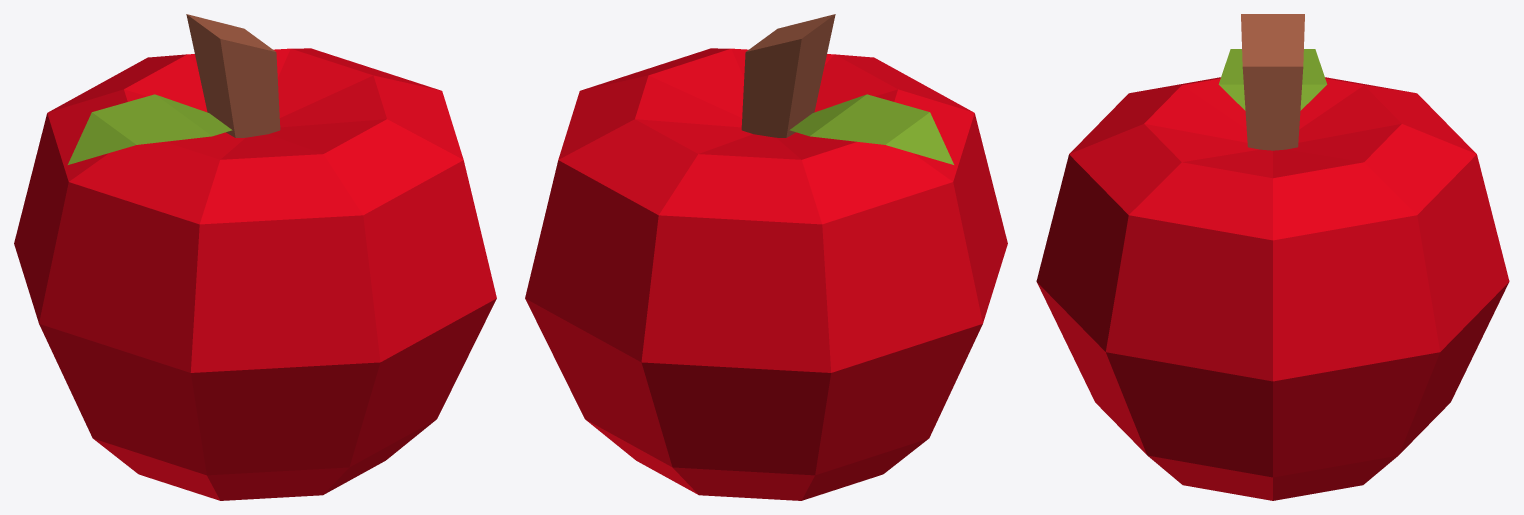
Rendered from Apple.fbx.
The picture shows the model from 3 angles, left to right: view 1: azimuth 30°, elevation 25°; view 2: azimuth 150°, elevation 25°; view 3: azimuth 270°, elevation 25°; orthographic projection. The views are drawn at different scales.
Parts seen in each view (by area): view 1: Apple; view 2: Apple; view 3: Apple.
Boxes of the visible parts, left/top/right/bottom form: Apple: left=14, top=14, right=496, bottom=500; Apple: left=525, top=14, right=1007, bottom=500; Apple: left=1036, top=14, right=1509, bottom=500.
Size of the model in its own units: 0.2 by 0.2 by 0.2001.
